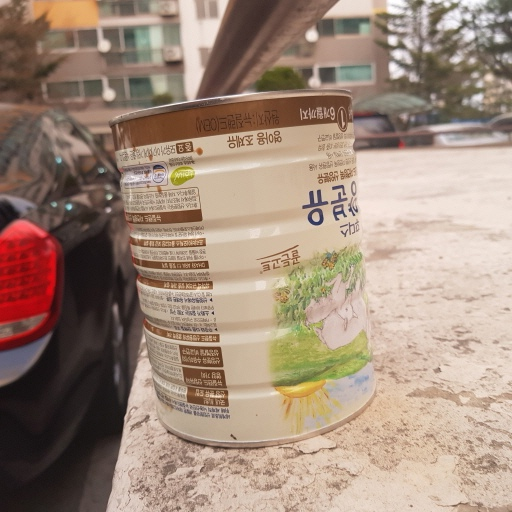Metal_1: (111, 88, 378, 445)
